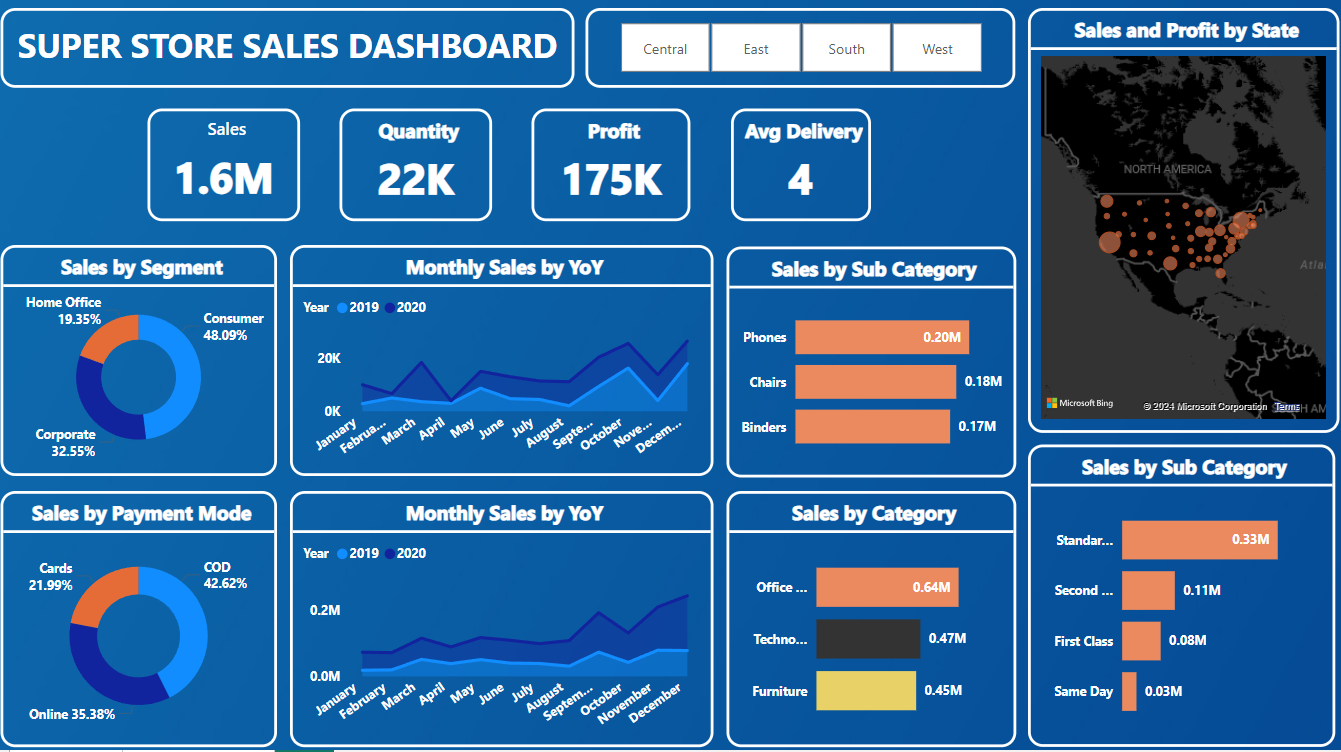

This screenshot's page, from the dashboard's own definition file:
{"tool":"powerbi","page":{"name":"Page 1","canvas":[1280,720],"ordinal":0},"visuals":[{"type":"clusteredBarChart","title":"Sales by Category","fields":{"Category":["Sheet1.Category"],"Y":["Sum(Sheet1.Sales)"]},"box":[692.4,468.2,275.8,243.9],"z":0},{"type":"clusteredBarChart","title":"Sales by Sub Category","fields":{"Y":["Sum(Sheet1.Sales)"],"Category":["Sheet1.Sub-Category"]},"box":[692.4,236.4,275.8,219.7],"z":1},{"type":"clusteredBarChart","title":"Sales by Ship Mode","fields":{"Y":["Sum(Sheet1.Sales)"],"Category":["Sheet1.Ship Mode"]},"box":[980,424.3,297.1,287.1],"z":2},{"type":"stackedAreaChart","title":"Monthly Sales by YoY","fields":{"Y":["Sum(Sheet1.Sales)"],"Category":["Sheet1.Order Date.Variation.Date Hierarchy.Month"],"Series":["Sheet1.Order Date.Variation.Date Hierarchy.Year"]},"box":[277.3,468.2,403,243.9],"z":3},{"type":"stackedAreaChart","title":"Monthly Sales by YoY","fields":{"Category":["Sheet1.Order Date.Variation.Date Hierarchy.Month"],"Series":["Sheet1.Order Date.Variation.Date Hierarchy.Year"],"Y":["Sum(Sheet1.Profit)"]},"box":[277.3,234.8,403,219.7],"z":4},{"type":"map","title":"Sales and Profit by State","fields":{"Category":["Sheet1.State"],"Size":["Sum(Sheet1.Sales)"]},"box":[980.3,9.1,297,404.5],"z":5},{"type":"donutChart","title":"Sales by Segment","fields":{"Category":["Sheet1.Segment"],"Y":["Sum(Sheet1.Sales)"]},"box":[1.5,234.8,263.6,219.7],"z":6},{"type":"donutChart","title":"Sales by Payment Mode","fields":{"Category":["Sheet1.Payment Mode"],"Y":["Sum(Sheet1.Sales)"]},"box":[1.5,468.2,263.6,243.9],"z":7},{"type":"slicer","fields":{"Values":["Sheet1.Region"]},"box":[559.1,9.1,409.1,75.8],"z":8},{"type":"textbox","box":[1.5,9.1,547,75.8],"z":9},{"type":"card","title":"Sales","fields":{"Values":["Sum(Sheet1.Sales)"]},"box":[140.9,104.5,145.5,107.6],"z":10},{"type":"card","title":"Quantity","fields":{"Values":["Sum(Sheet1.Quantity)"]},"box":[324.2,104.5,145.5,107.6],"z":11},{"type":"card","title":"Profit","fields":{"Values":["Sum(Sheet1.Profit)"]},"box":[507.6,104.5,151.5,107.6],"z":12},{"type":"card","title":"Avg Delivery","fields":{"Values":["Avg(Sheet1.Average Delivery)"]},"box":[697,104.5,133.3,107.6],"z":13}]}

Visuals, with their boxes in screenshot pixels (x1, y1, x2, y2), scaled from the page's 1280x720 canvas onto the 1341x752 screenshot:
"Sales by Category" clusteredBarChart: left=725, top=489, right=1014, bottom=744
"Sales by Sub Category" clusteredBarChart: left=725, top=247, right=1014, bottom=476
"Sales by Ship Mode" clusteredBarChart: left=1027, top=443, right=1338, bottom=743
"Monthly Sales by YoY" stackedAreaChart: left=291, top=489, right=713, bottom=744
"Monthly Sales by YoY" stackedAreaChart: left=291, top=245, right=713, bottom=475
"Sales and Profit by State" map: left=1027, top=10, right=1338, bottom=432
"Sales by Segment" donutChart: left=2, top=245, right=278, bottom=475
"Sales by Payment Mode" donutChart: left=2, top=489, right=278, bottom=744
slicer - Sheet1.Region: left=586, top=10, right=1014, bottom=89
textbox: left=2, top=10, right=575, bottom=89
"Sales" card: left=148, top=109, right=300, bottom=222
"Quantity" card: left=340, top=109, right=492, bottom=222
"Profit" card: left=532, top=109, right=691, bottom=222
"Avg Delivery" card: left=730, top=109, right=870, bottom=222
